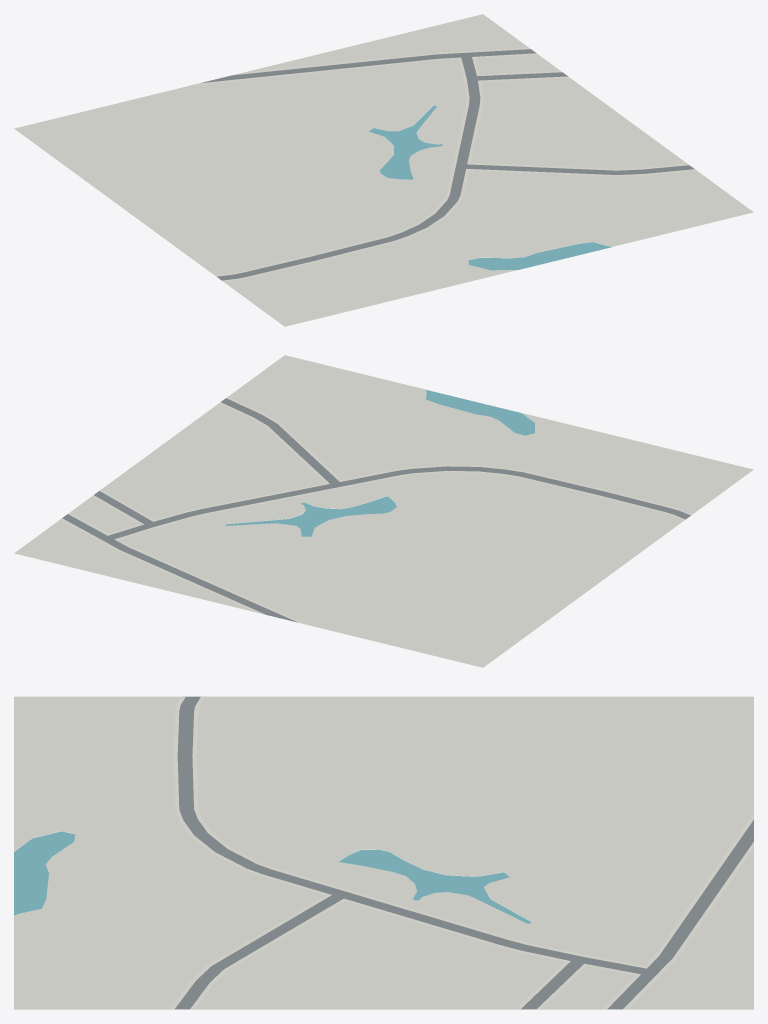
3 renders of one model, top to bottom at view 1: azimuth 30°, elevation 25°; view 2: azimuth 150°, elevation 25°; view 3: azimuth 270°, elevation 25°, orthographic. The views are drawn at different scales.
Visible parts, largest first — view 1: city; view 2: city; view 3: city.
Boxes of the visible parts, x1,y1,x2,y2 form: city: (14,14,753,326); city: (14,355,753,667); city: (14,696,753,1009).
Bounding box in the file's own units: 500 × 0.4 × 500.
